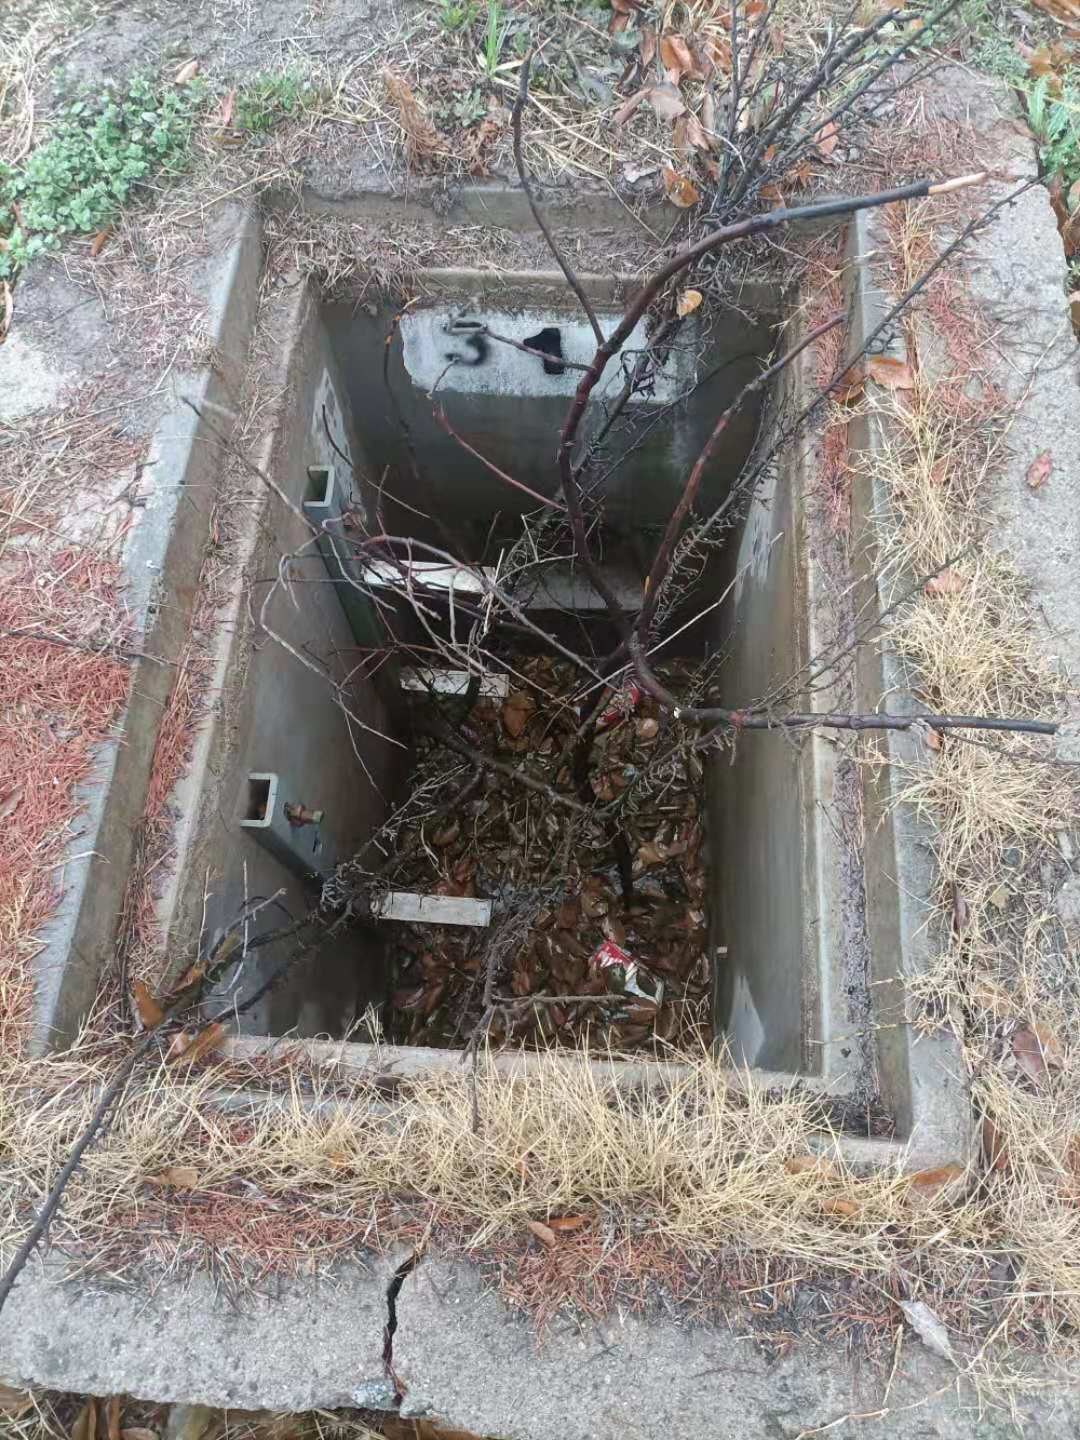well: (1, 136, 1070, 1108)
